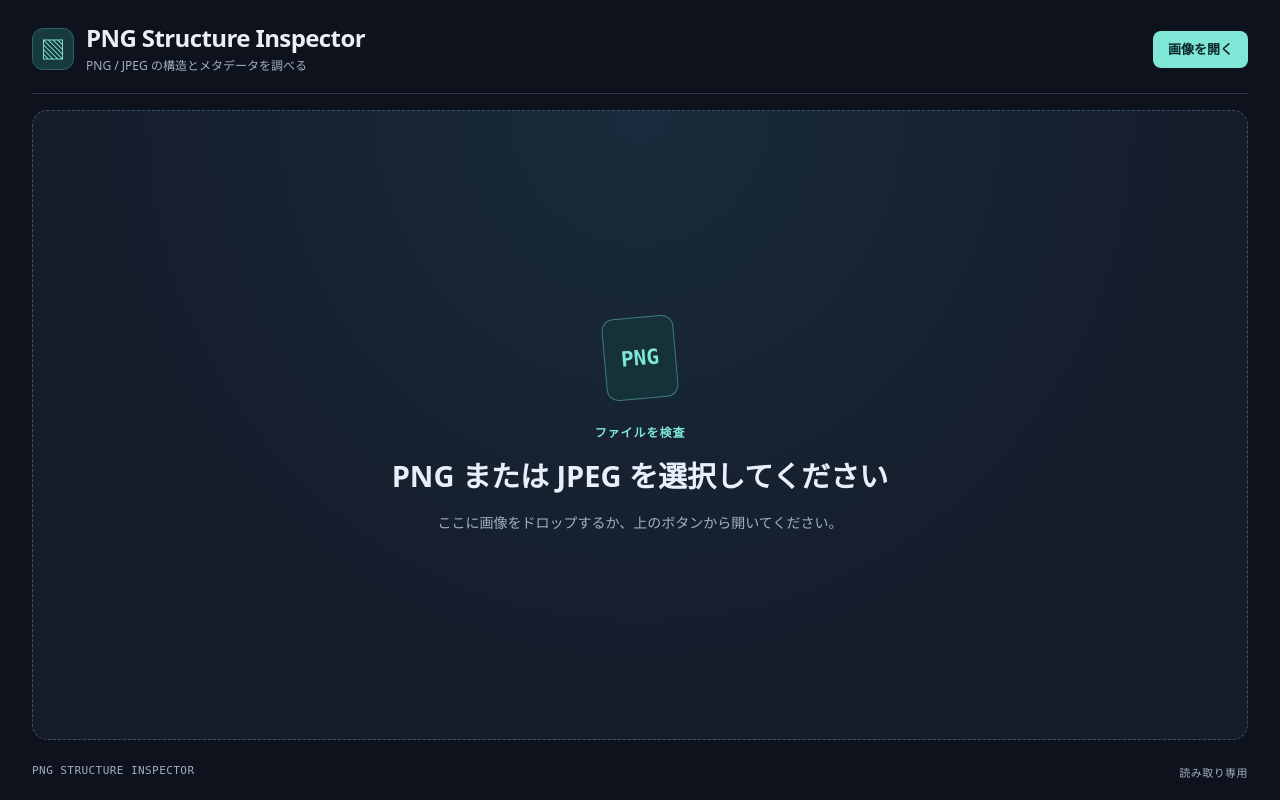
Test: text metadata › shows each duplicate keyword, opens details and falls back to plain text
Click the button "画像を開く": (1200, 49) [1153,31,1248,68]
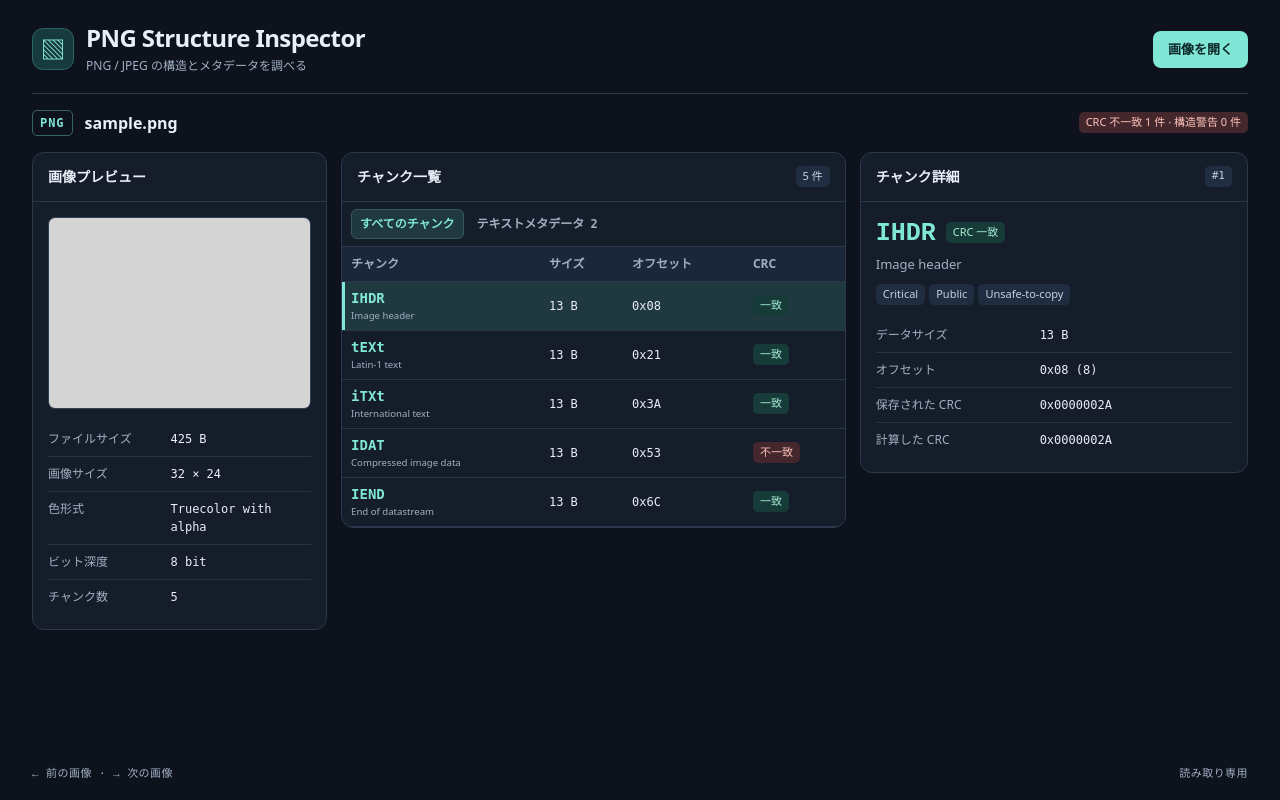
Click the button "テキストメタデータ 2": (537, 224) [468,209,607,239]
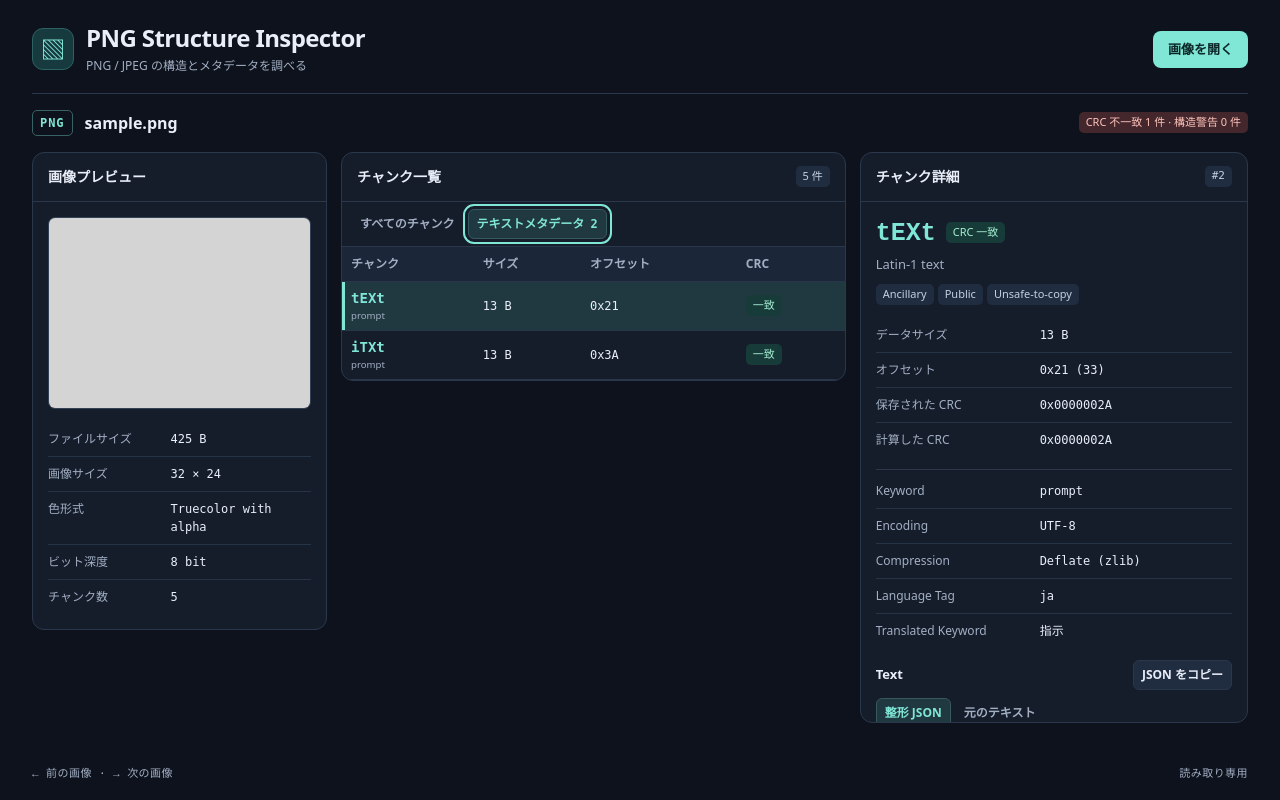
expect the text "prompt" is shown 2 times: met, box [351,309,385,322]; [351,358,385,371]
expect the button "IHDR" is gone: met
Click the button "iTXt": (368, 347) [351,339,385,355]
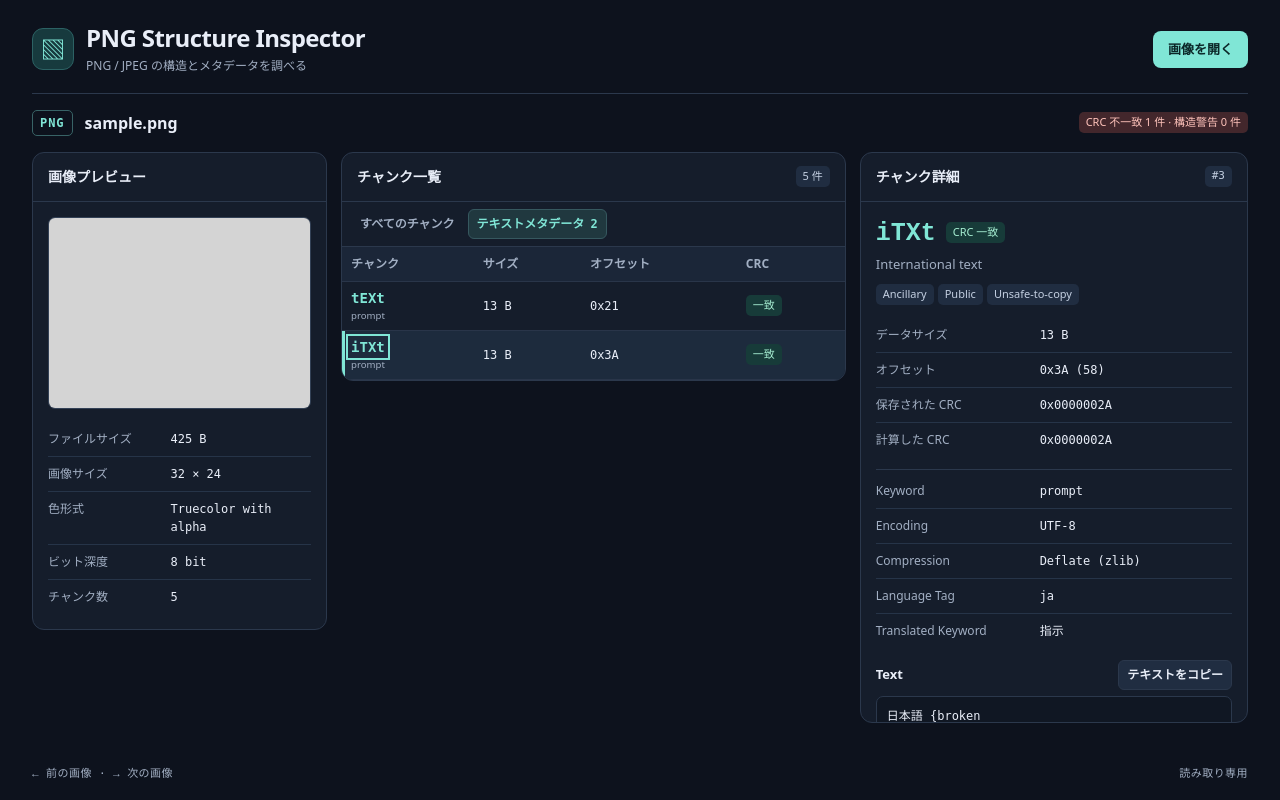
expect the text "指示" is shown: met, box [1040,624,1064,638]
expect the text "ja" is shown: met, box [1040,589,1054,603]
expect the text "日本語 {broken" is shown: met, box [876,696,1232,722]
Click the button "すべてのチャンク": (407, 224) [351,209,464,239]
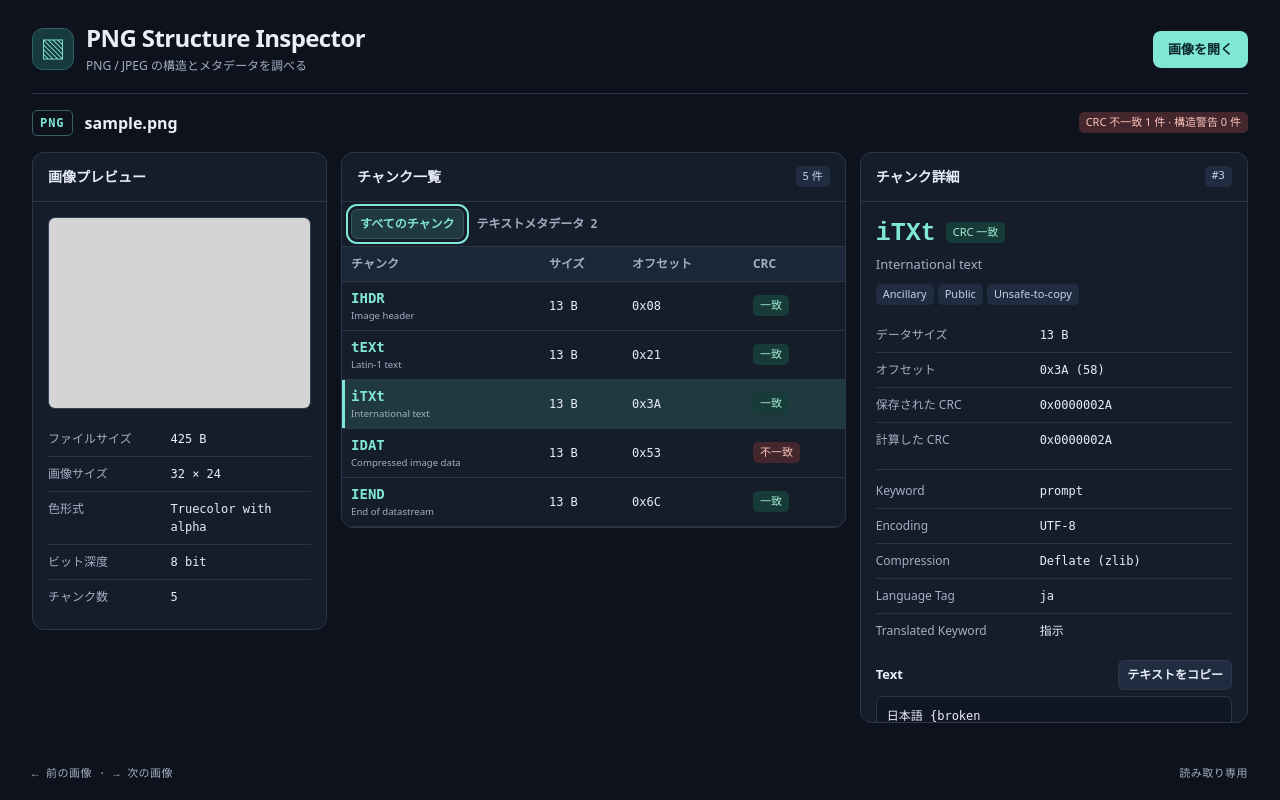
expect the table named "チャンク一覧" is shown: met, box [342,247,845,527]
